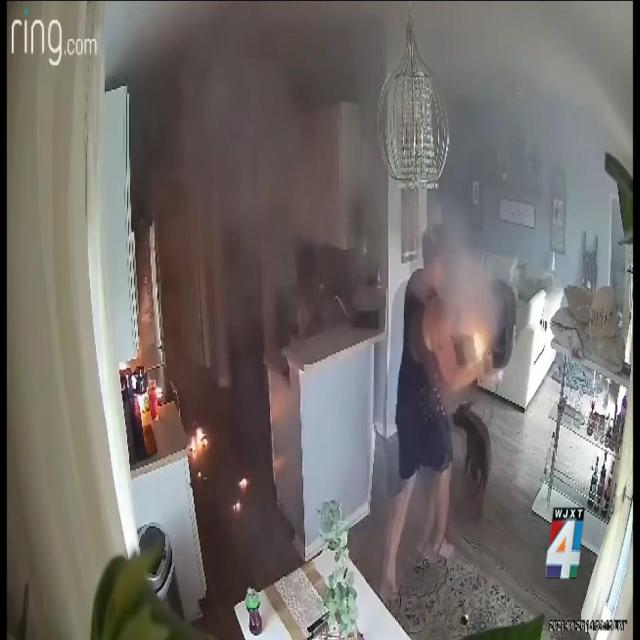fire: (190, 428, 208, 452), (474, 332, 486, 359), (239, 478, 247, 487), (233, 502, 240, 509)
